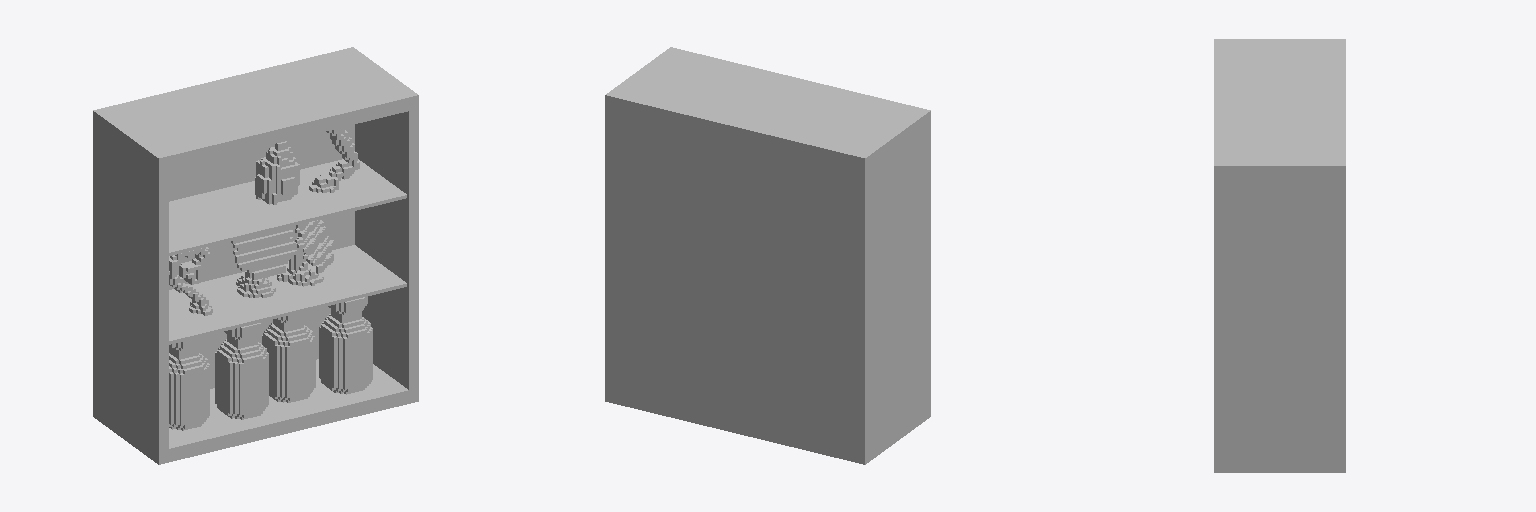
File: Cabinet.obj
3 renders of one model, left to right at view 1: azimuth 30°, elevation 25°; view 2: azimuth 150°, elevation 25°; view 3: azimuth 270°, elevation 25°, orthographic.
Parts seen in each view (by area): view 1: object 1; view 2: object 1; view 3: object 1.
Boxes of the visible parts, x1,y1,x2,y2 form: object 1: [93, 47, 418, 464]; object 1: [605, 47, 930, 464]; object 1: [1214, 39, 1345, 472].
Bounding box in the file's own units: 8 × 9 × 3.5.